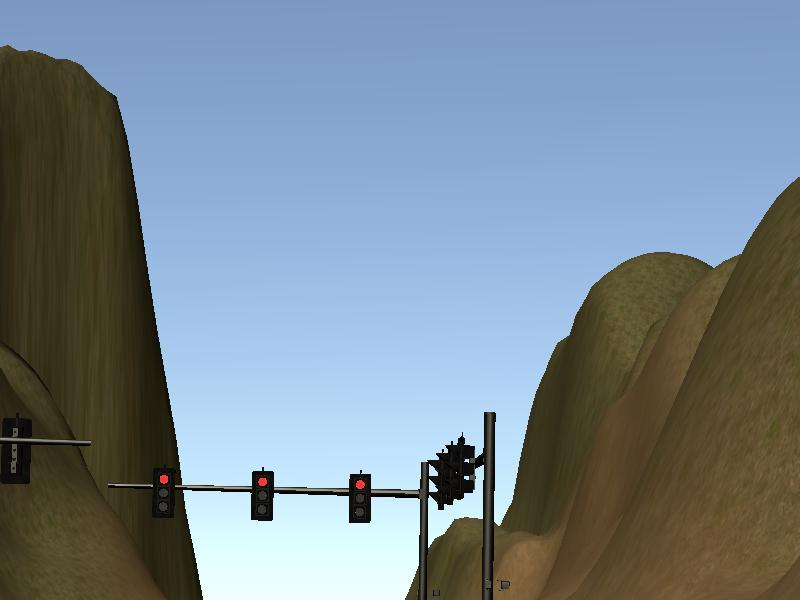Red: (251, 471, 273, 522), (349, 473, 371, 523), (152, 469, 173, 517)
